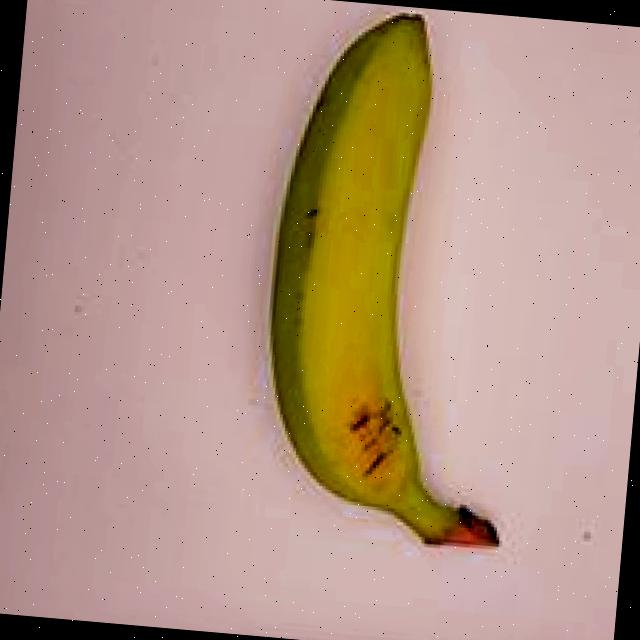Unripe: (228, 0, 560, 577)
